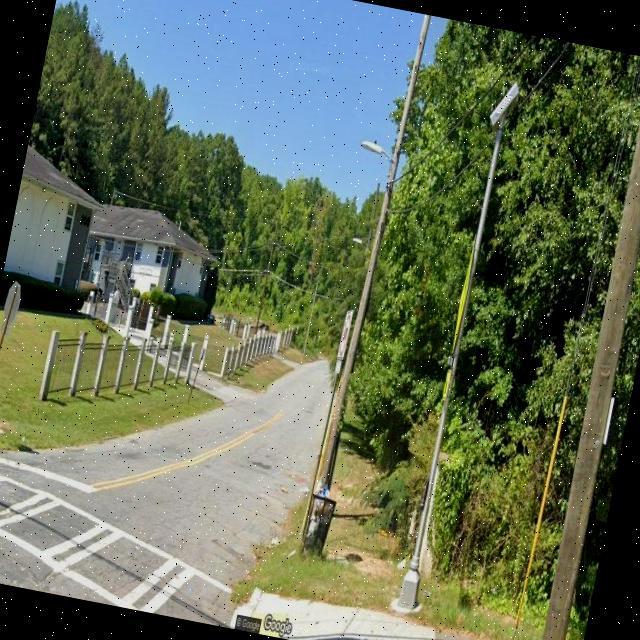trash_can: (300, 491, 338, 562)
